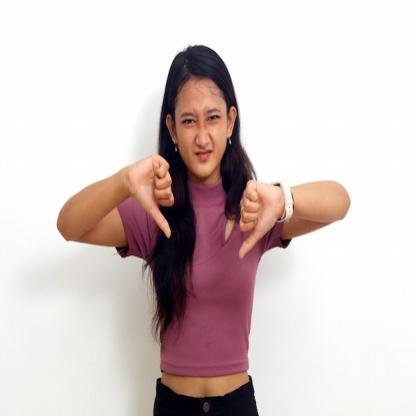thumb_down: (128, 150, 177, 242), (236, 173, 276, 263)
